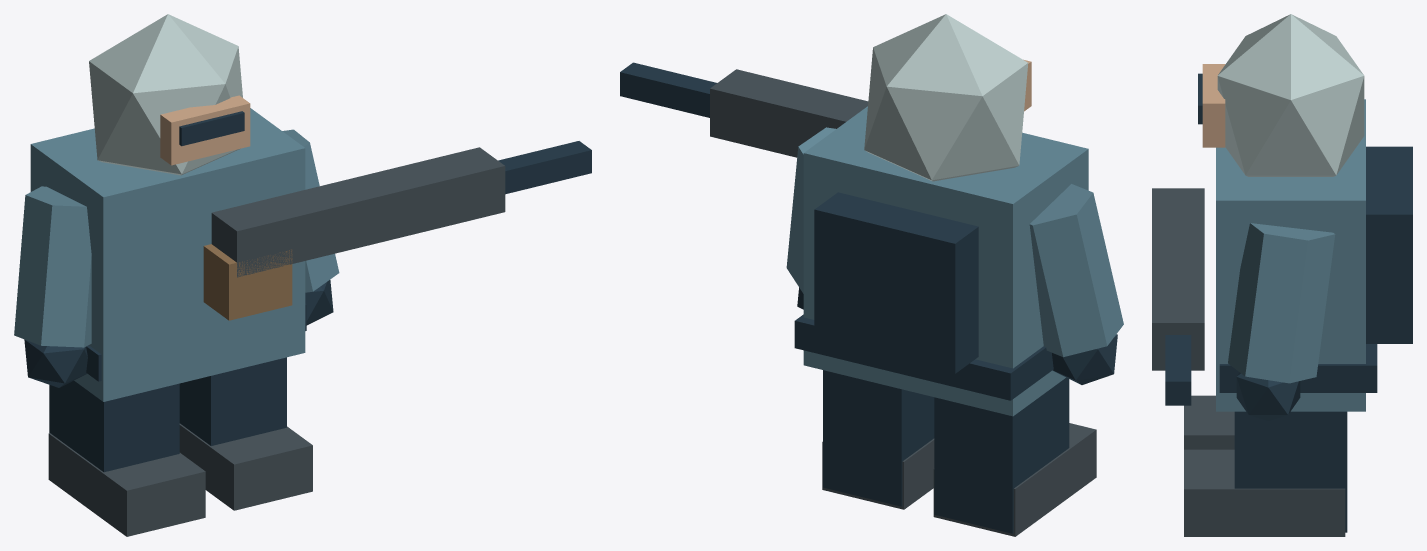
The model's file is rifleman.glb.
The picture shows the model from 3 angles, left to right: view 1: azimuth 30°, elevation 25°; view 2: azimuth 150°, elevation 25°; view 3: azimuth 270°, elevation 25°; orthographic projection. The views are drawn at different scales.
Visible parts, largest first — view 1: rifleman; view 2: rifleman; view 3: rifleman.
Boxes of the visible parts, box(x1,y1,x2,y2) form: rifleman: box(14, 14, 591, 536); rifleman: box(620, 14, 1123, 536); rifleman: box(1152, 14, 1412, 536).
Size of the model in its own units: 1.64 by 1.4 by 0.695.
1 material, 1 textured.
